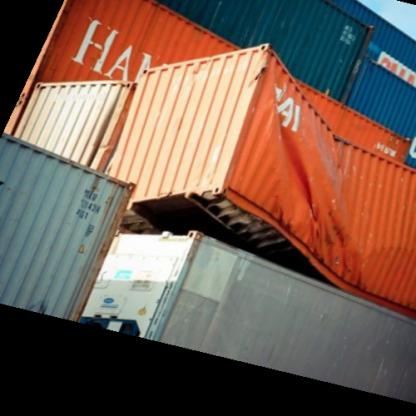Damage: (242, 61, 370, 281)
